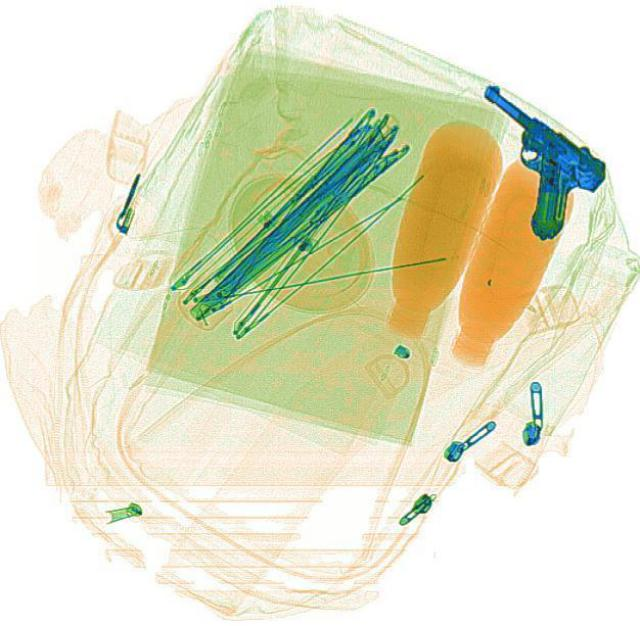Gun: (422, 78, 614, 241)
